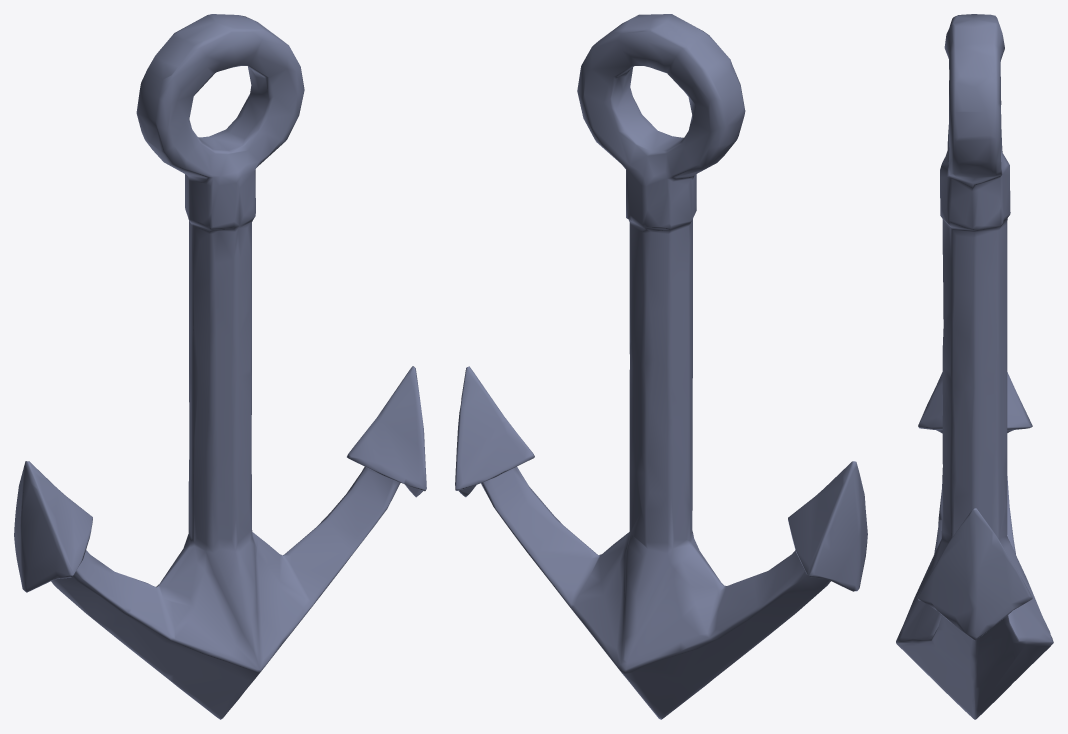
The model's file is gen3d-anchor-lod0.glb.
3 views of the same model, side by side, from view 1: azimuth 30°, elevation 25°; view 2: azimuth 150°, elevation 25°; view 3: azimuth 270°, elevation 25° (orthographic).
Parts seen in each view (by area): view 1: part_0; view 2: part_0; view 3: part_0.
Part boxes in pixels (x1,y1,x2,y2): part_0: (14,14,426,719); part_0: (455,14,867,719); part_0: (896,14,1053,719).
Size of the model in its own units: 0.5945 by 0.9985 by 0.2046.
